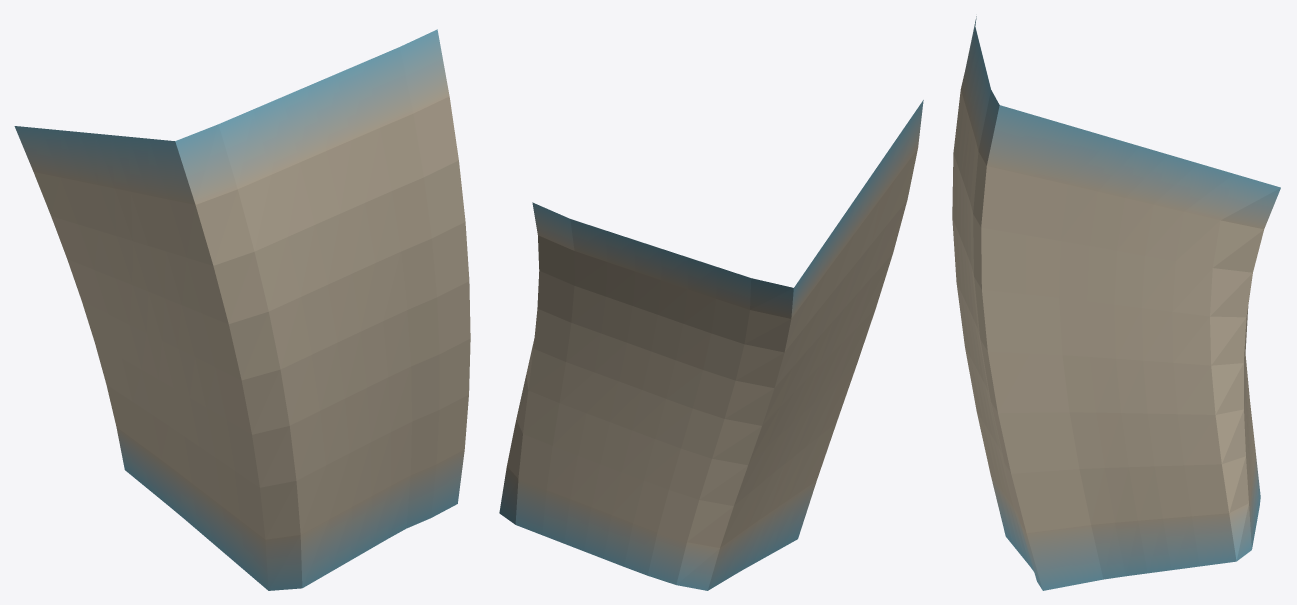
File: field-elbow-12-1.glb
The picture shows the model from 3 angles, left to right: view 1: azimuth 30°, elevation 25°; view 2: azimuth 150°, elevation 25°; view 3: azimuth 270°, elevation 25°; orthographic projection. The views are drawn at different scales.
Visible parts, largest first — view 1: world; view 2: world; view 3: world.
Part boxes in pixels (bbox=[...]): world: bbox=[14, 29, 470, 590]; world: bbox=[499, 100, 923, 590]; world: bbox=[952, 16, 1280, 590].
Size of the model in its own units: 8.45 by 12.78 by 7.77.
